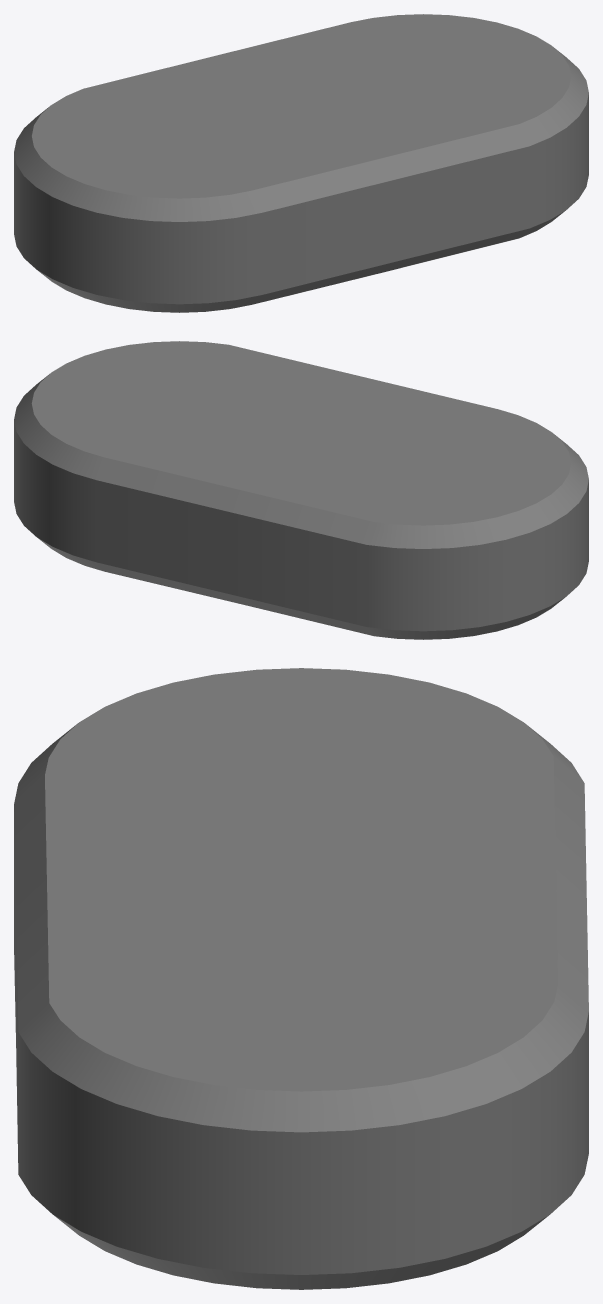
Rendered from pill1.fbx.
3 renders of one model, top to bottom at view 1: azimuth 30°, elevation 25°; view 2: azimuth 150°, elevation 25°; view 3: azimuth 270°, elevation 25°, orthographic. The views are drawn at different scales.
Parts seen in each view (by area): view 1: Cylinder; view 2: Cylinder; view 3: Cylinder.
Part boxes in pixels (left/top/right/bottom): Cylinder: left=14, top=14, right=588, bottom=312; Cylinder: left=14, top=341, right=588, bottom=639; Cylinder: left=14, top=668, right=588, bottom=1289.
Bounding box in the file's own units: 208 × 42.75 × 112.
